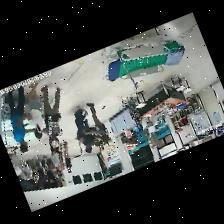person: (7, 86, 33, 152), (40, 86, 61, 146), (84, 103, 109, 143), (27, 83, 44, 138), (74, 105, 93, 152), (48, 136, 60, 171), (62, 141, 70, 172), (30, 159, 38, 182), (57, 148, 63, 176), (46, 158, 53, 182), (87, 134, 99, 145), (51, 168, 58, 181)
